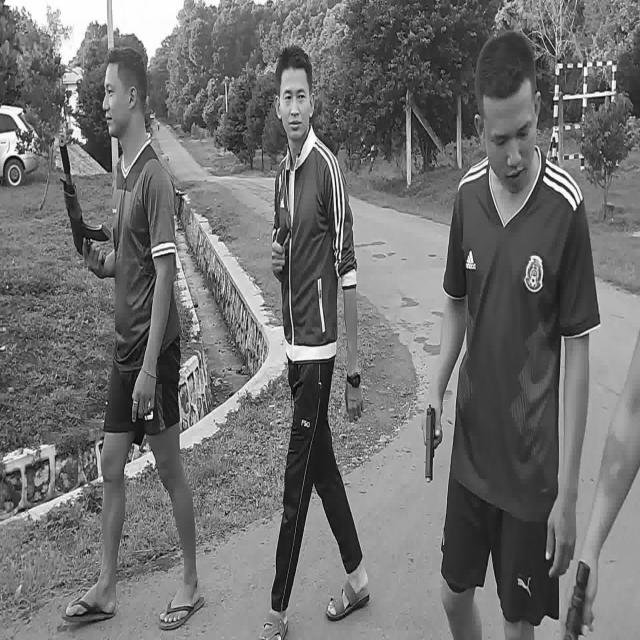gun: (58, 139, 110, 266), (426, 404, 434, 482)
